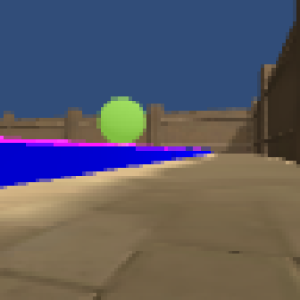goodGoal: (93, 94, 153, 145)
platform: (1, 148, 210, 186)
ramp: (2, 134, 140, 148)
